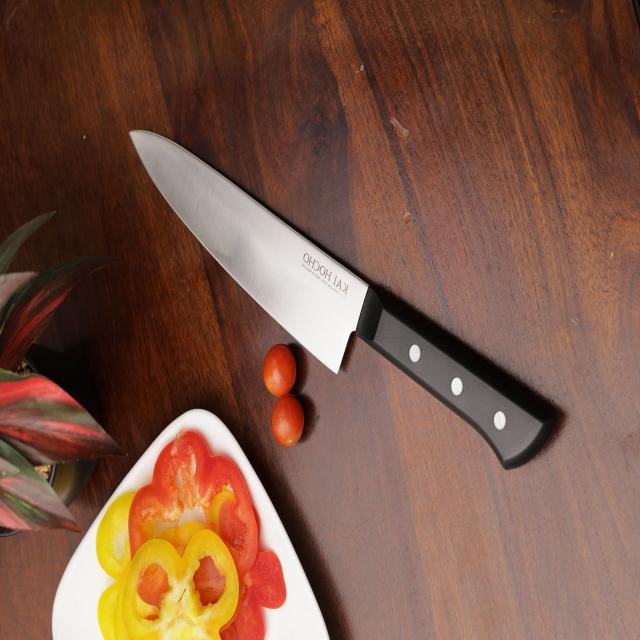knife: (122, 120, 538, 470)
